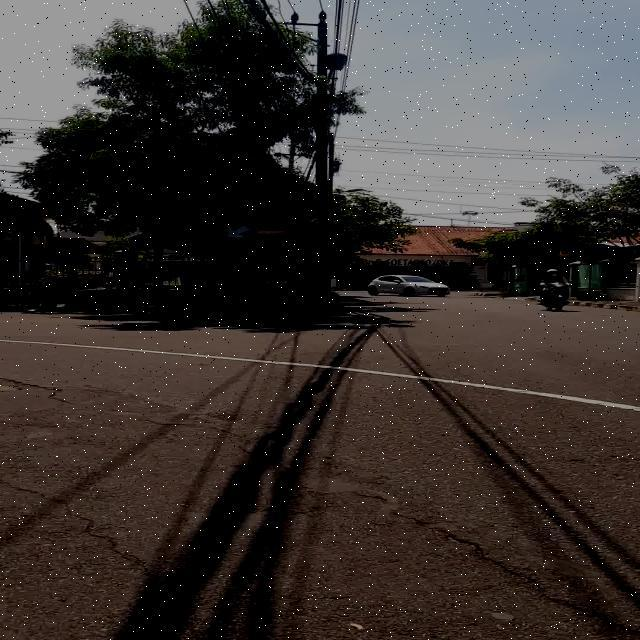Lajur Kiri: (221, 222, 254, 242)
